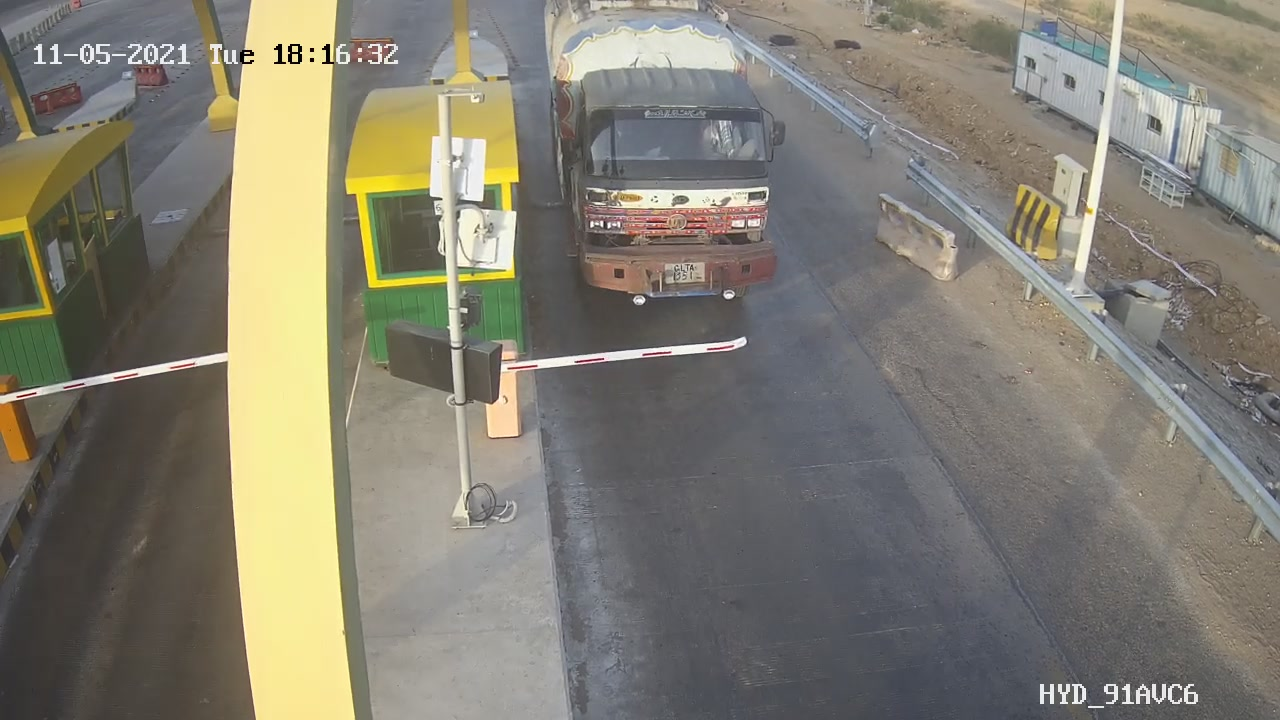F6: (535, 3, 795, 316)
